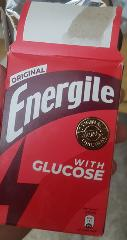paper: (0, 1, 124, 237)
